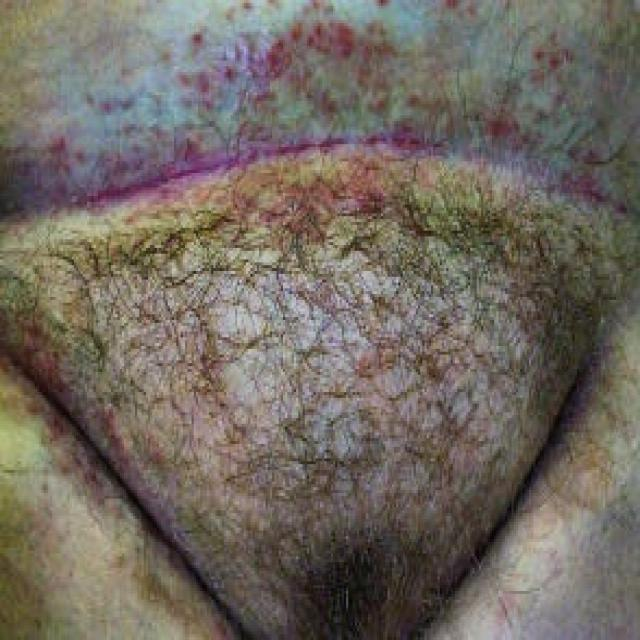Tinea Ringworm Candidiasis and other Fungal Infections: (16, 18, 630, 209)
